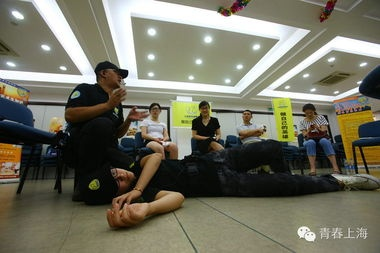falling: (105, 146, 380, 216)
